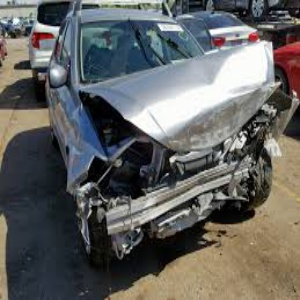bonnet: (139, 41, 280, 157)
bumper: (112, 150, 253, 258)
